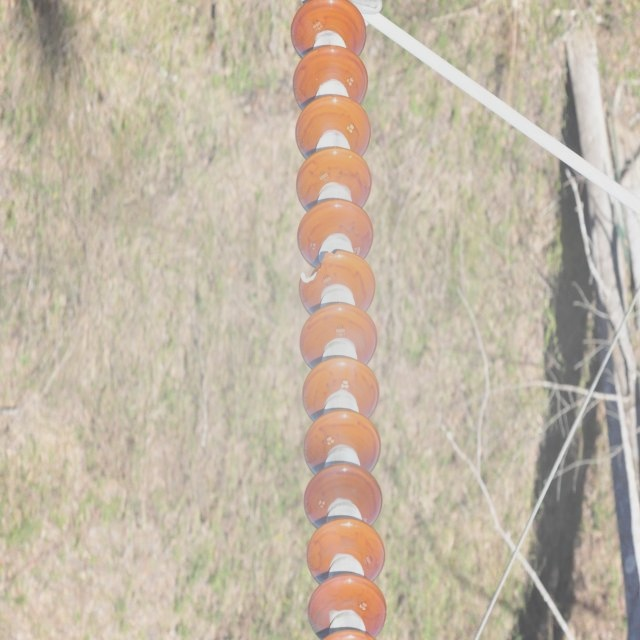broken: (299, 248, 339, 285)
insulator: (291, 1, 390, 640)
